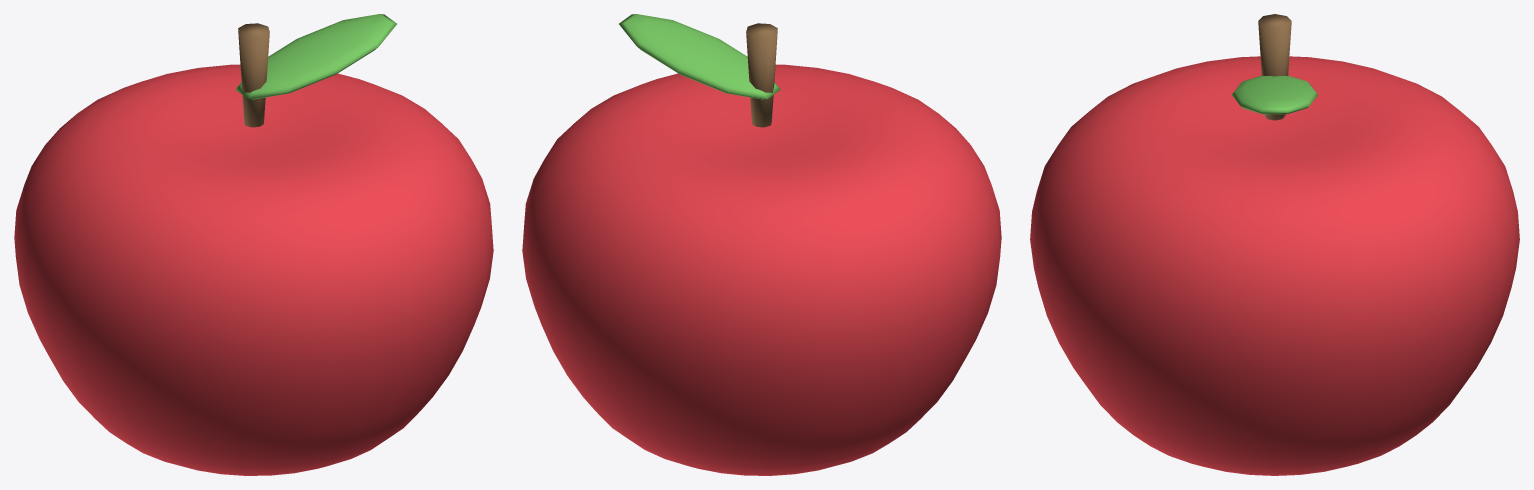
The model's file is Apple_Whole.fbx.
3 renders of one model, left to right at view 1: azimuth 30°, elevation 25°; view 2: azimuth 150°, elevation 25°; view 3: azimuth 270°, elevation 25°, orthographic.
Visible parts, largest first — view 1: Apple_Whole; view 2: Apple_Whole; view 3: Apple_Whole.
Boxes of the visible parts, x1=… form: Apple_Whole: x1=14, y1=14, x2=493, y2=475; Apple_Whole: x1=522, y1=14, x2=1001, y2=475; Apple_Whole: x1=1030, y1=14, x2=1519, y2=475.
Bounding box in the file's own units: 0.9344 × 0.8625 × 0.9344.
